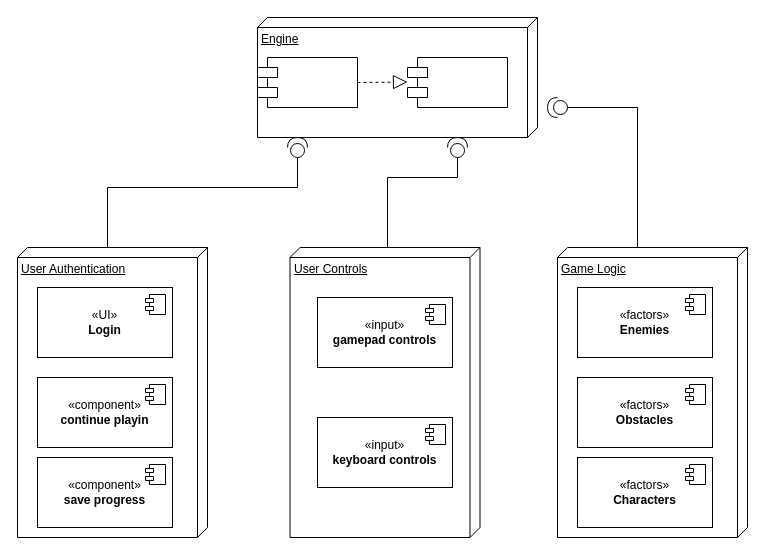
The diagram is 765 pixels wide and 555 high, and some of its shapes have lost their labels. The shapes that lost their labels are listed below. From the top down, each one's centre as x and y in pixels, then its label:
the point at 307,82: Game Engine Unity
the point at 457,82: Interface
